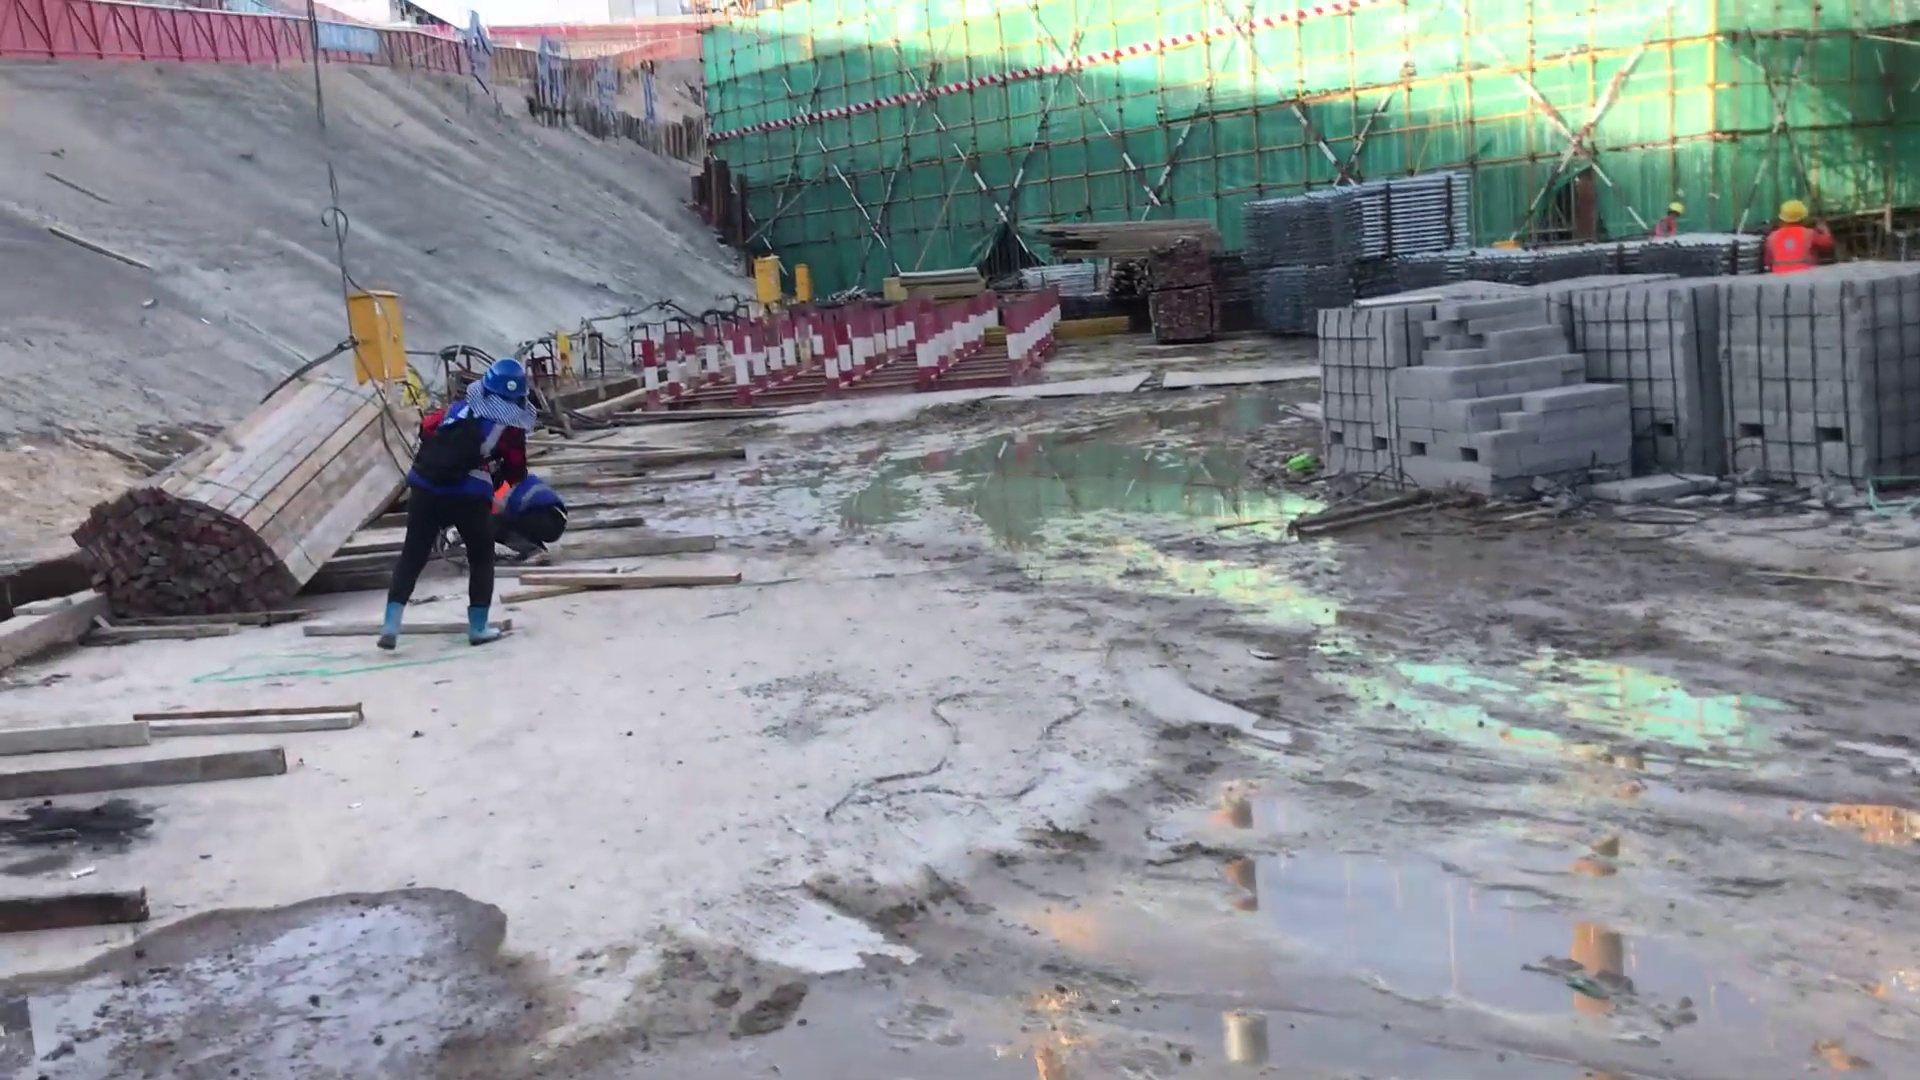brick: (1328, 271, 1920, 495)
ebox: (332, 272, 430, 381), (746, 253, 786, 297), (792, 259, 811, 300)
fence: (1, 1, 321, 67), (318, 18, 493, 71)
helmet: (468, 356, 539, 434), (1775, 198, 1809, 227), (1669, 198, 1694, 221)
person: (375, 335, 522, 654), (1756, 187, 1830, 278), (1650, 195, 1687, 238)
scaffold: (1248, 177, 1469, 258)
vest: (1767, 225, 1808, 275)
wood: (67, 364, 358, 630), (1029, 204, 1237, 264)
